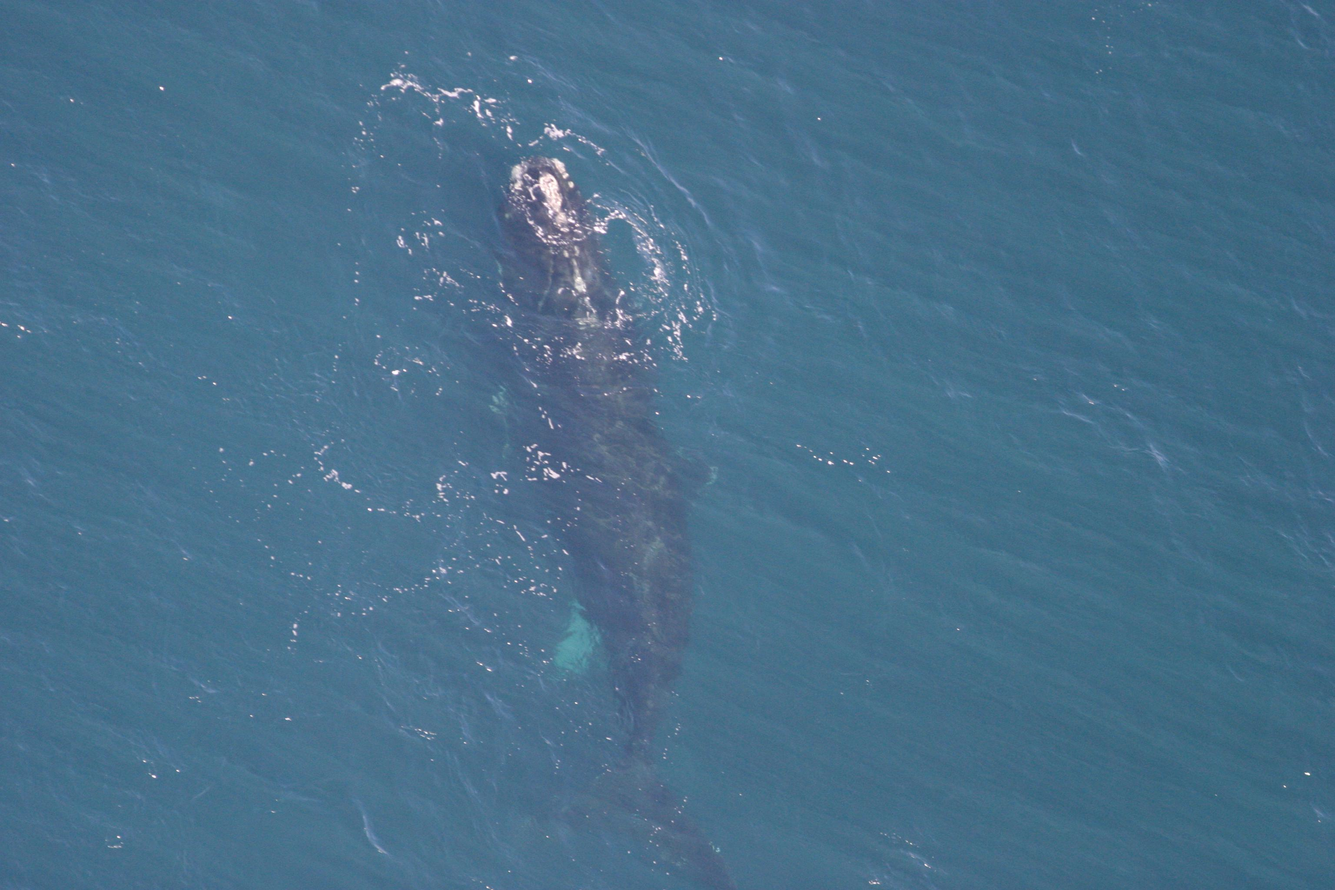whale: (458, 146, 744, 890)
